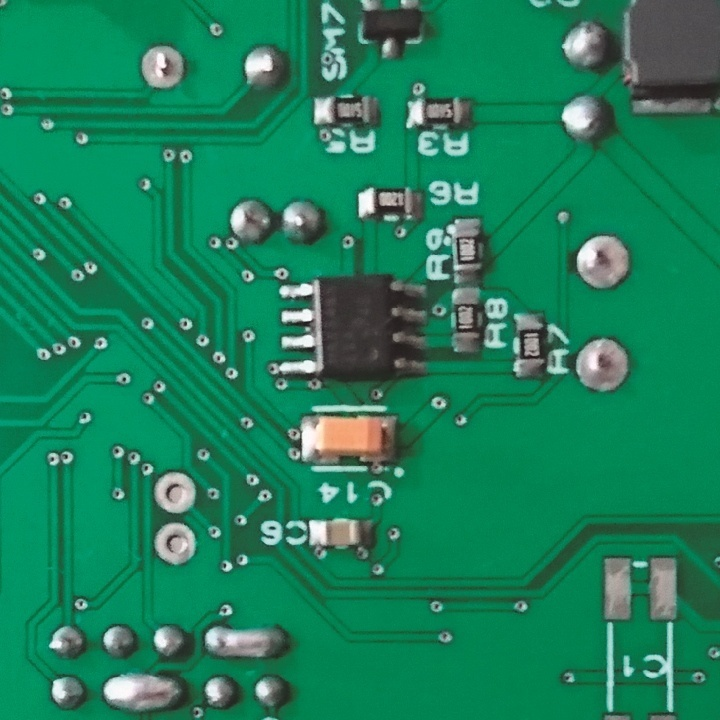F: (573, 337, 633, 395), (578, 232, 633, 295), (137, 43, 187, 93), (151, 523, 201, 566), (150, 471, 195, 515)
P: (201, 623, 293, 661), (101, 672, 184, 712)
